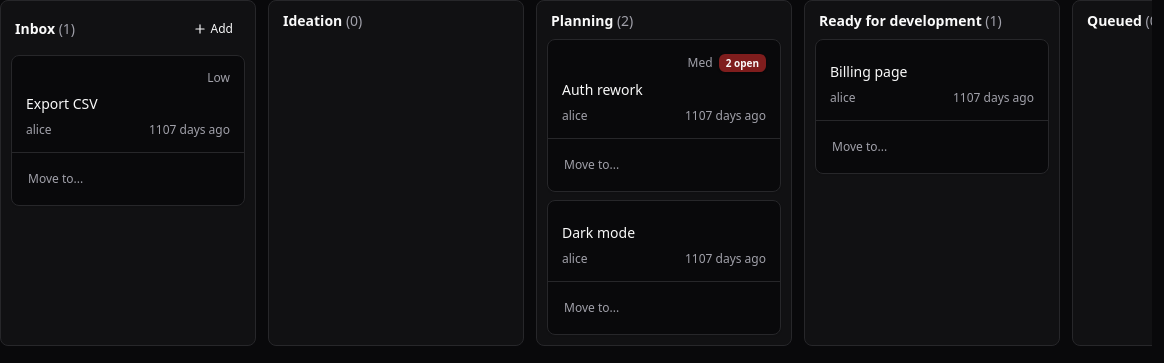
Scenario: KanbanBoard keyboard menu › lists exactly the moves the server offered
This screenshot has width=1164, height=363.
Click the 2nd button "Move to..." at (664, 165), box [556,143,772,187]
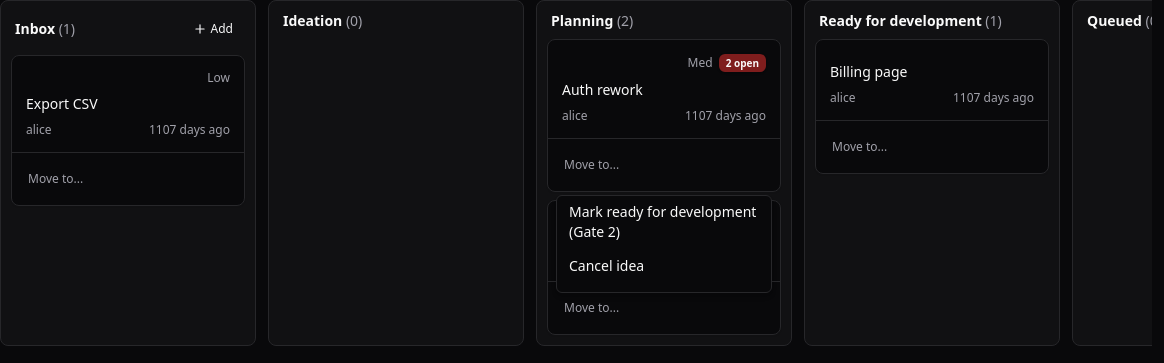
Now the menu items read "Mark ready for development (Gate 2)", "Cancel idea", in this order, box [561,200,767,244]; [561,244,767,288]
